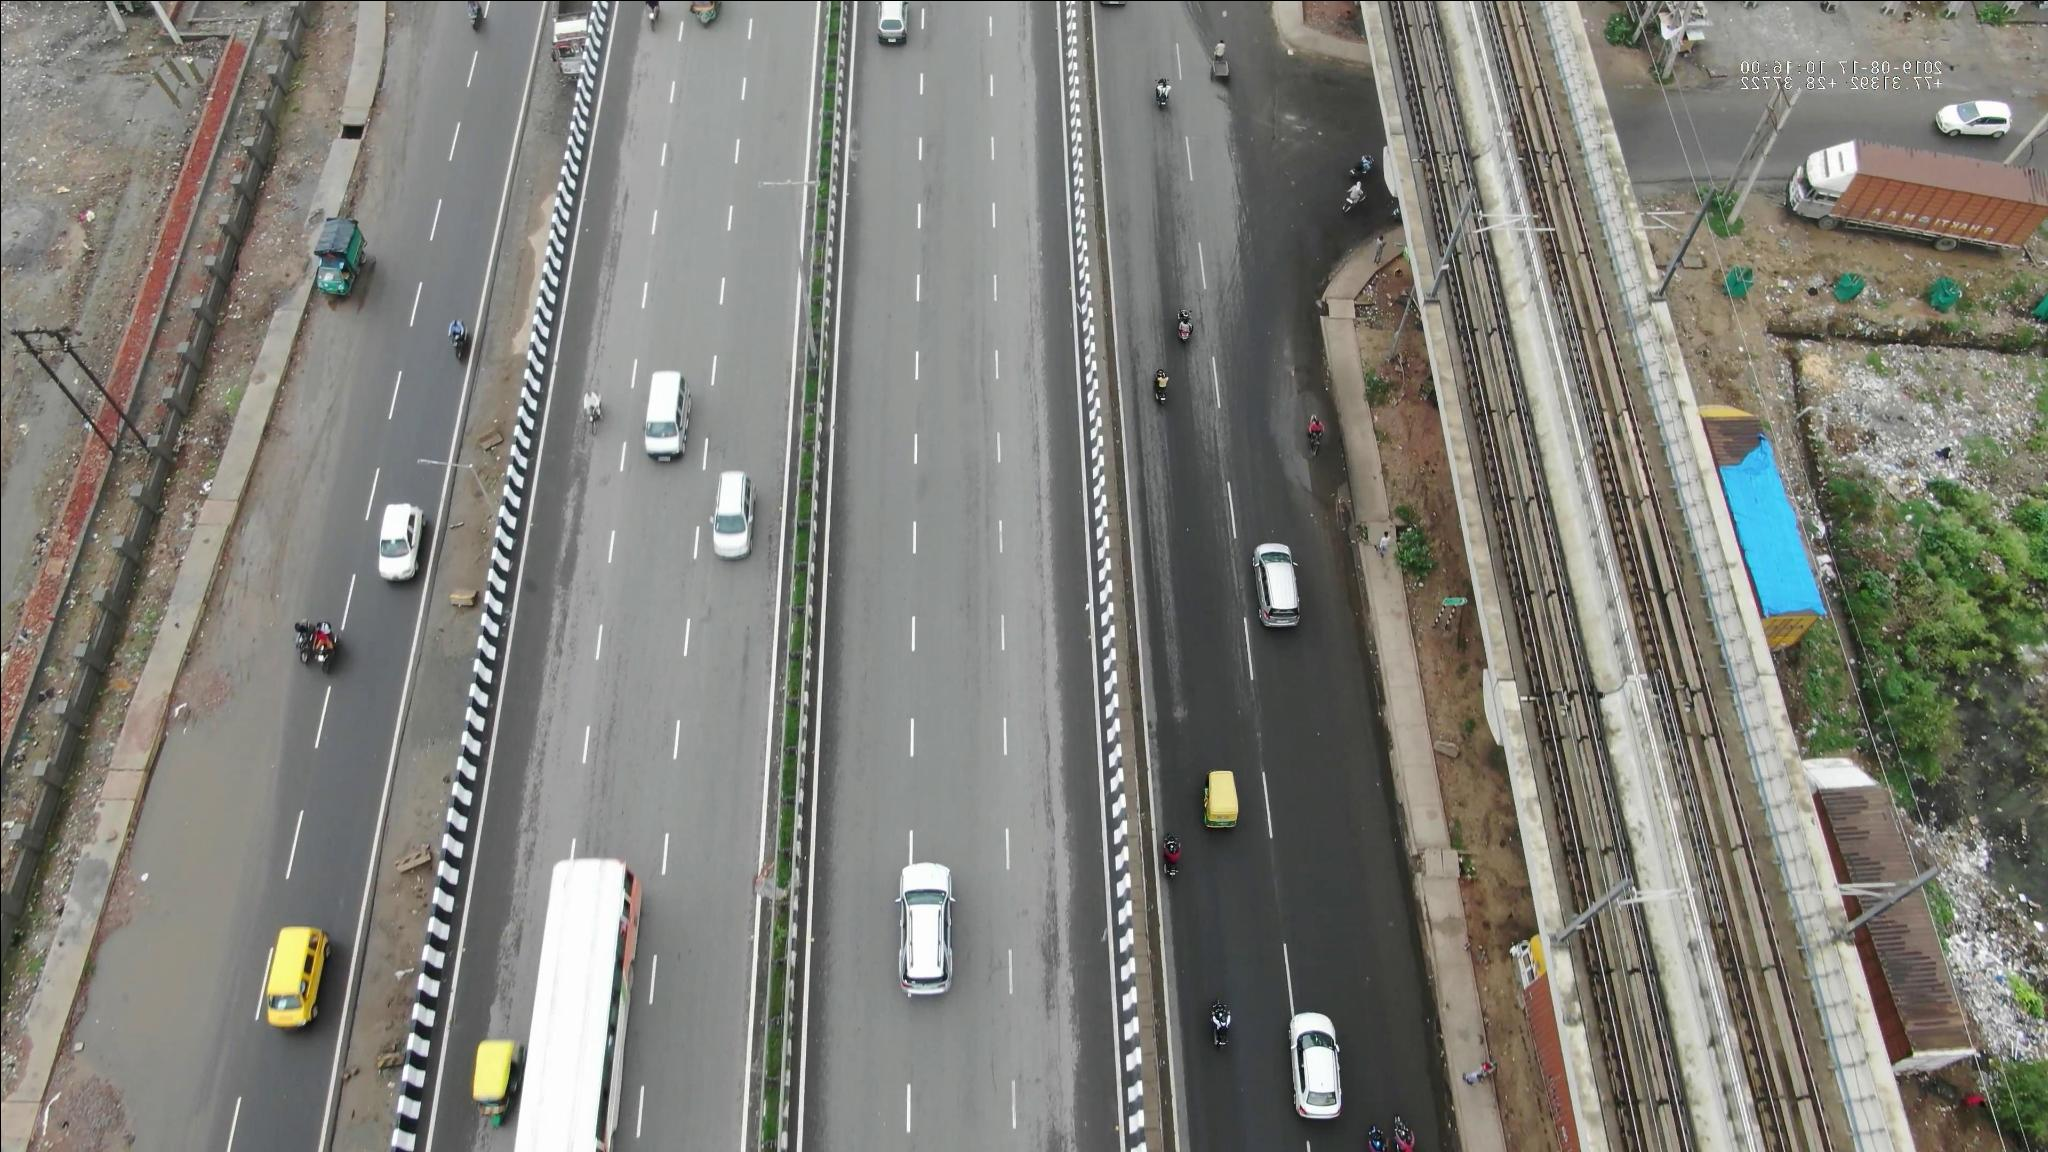Ravelling: (1032, 679, 1068, 1014), (542, 464, 602, 653), (588, 196, 634, 381), (1030, 426, 1063, 658)
